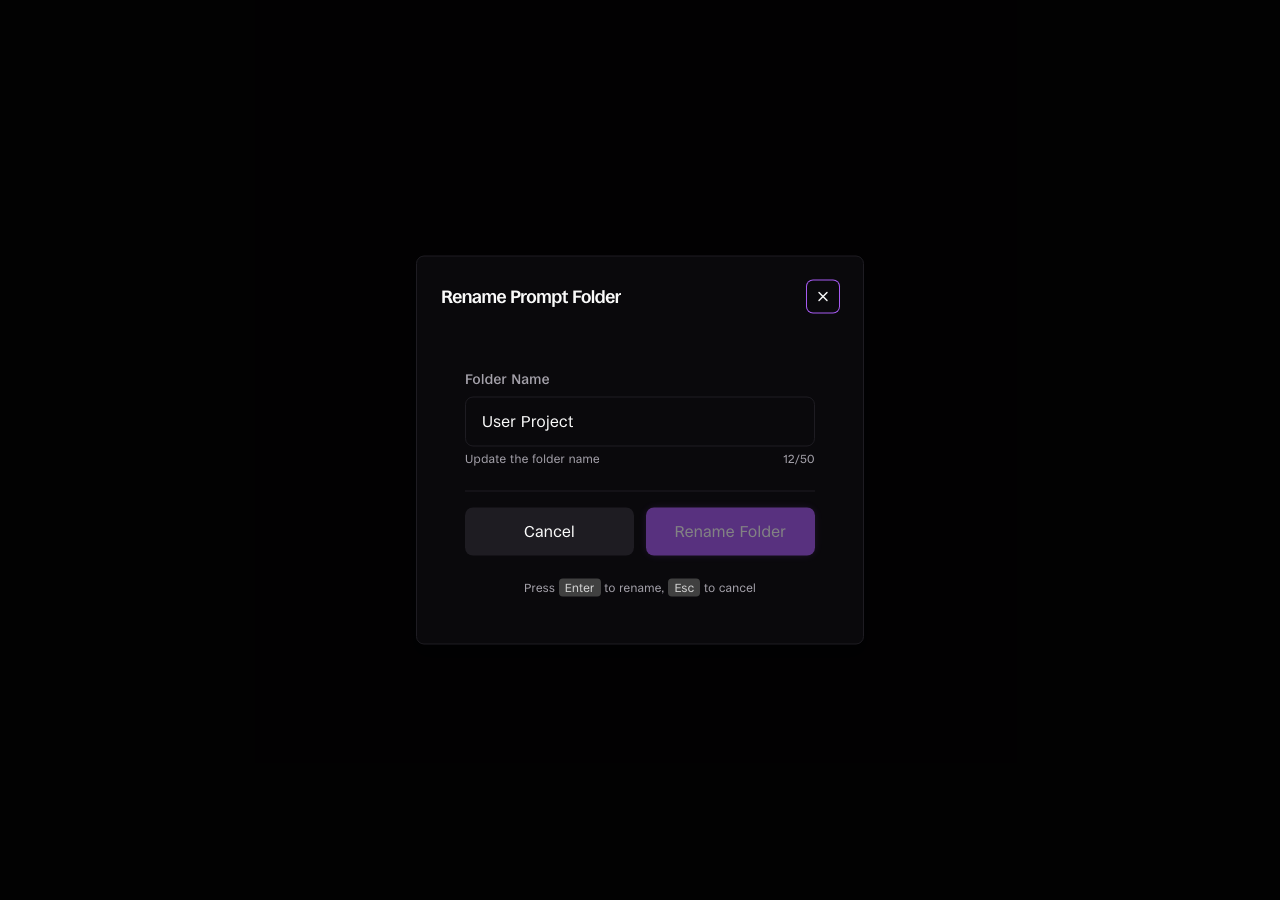
Test case: Folder Operations Error Handling › Permission Validation › should handle permission errors gracefully
This screenshot has width=1280, height=900.
Replace the text in the field labelled "Folder Name" with "New Name". click: {"x": 640, "y": 422}
box: [465,396,815,446]
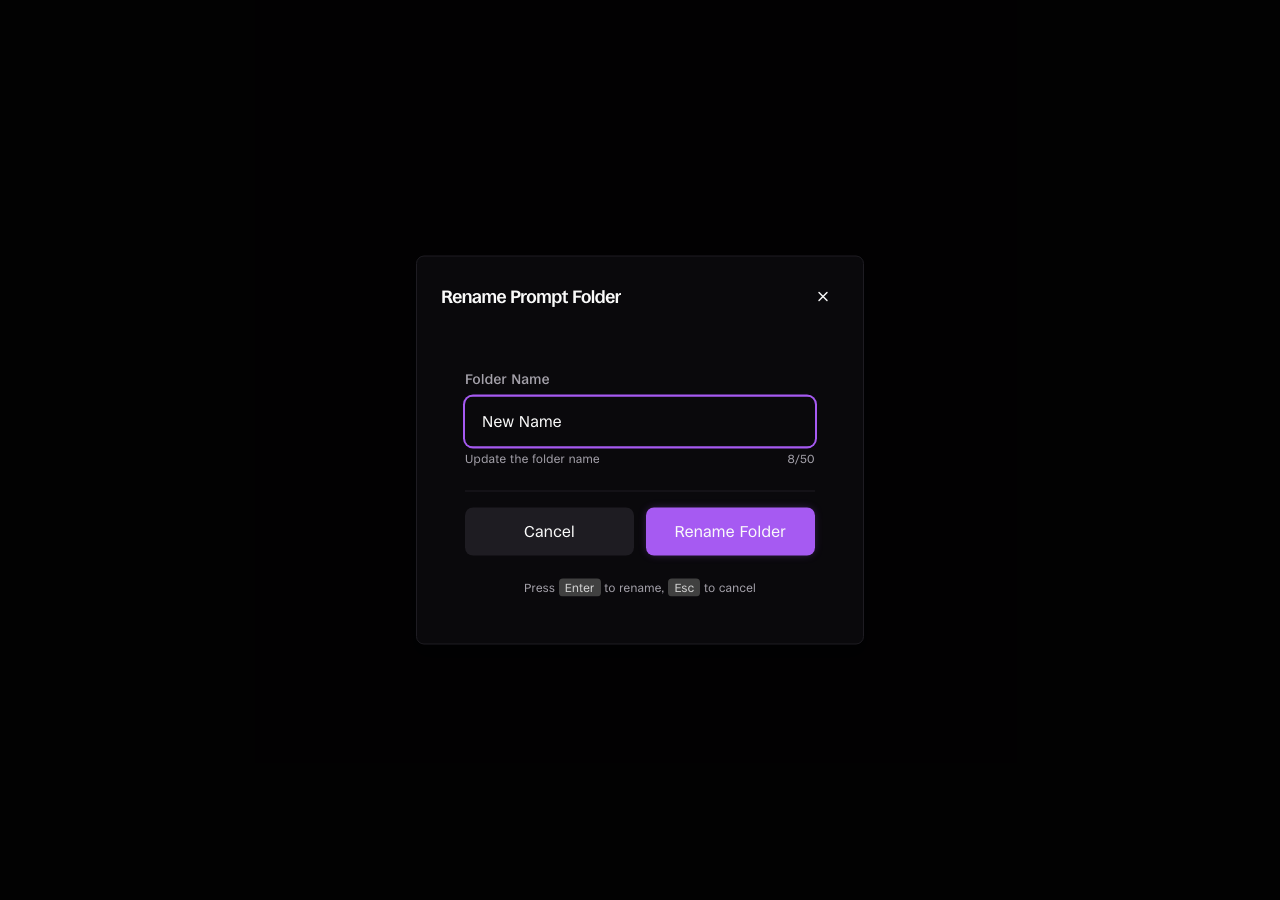
Click the button "Rename Folder". click: {"x": 730, "y": 532}
box: [646,508,815,556]
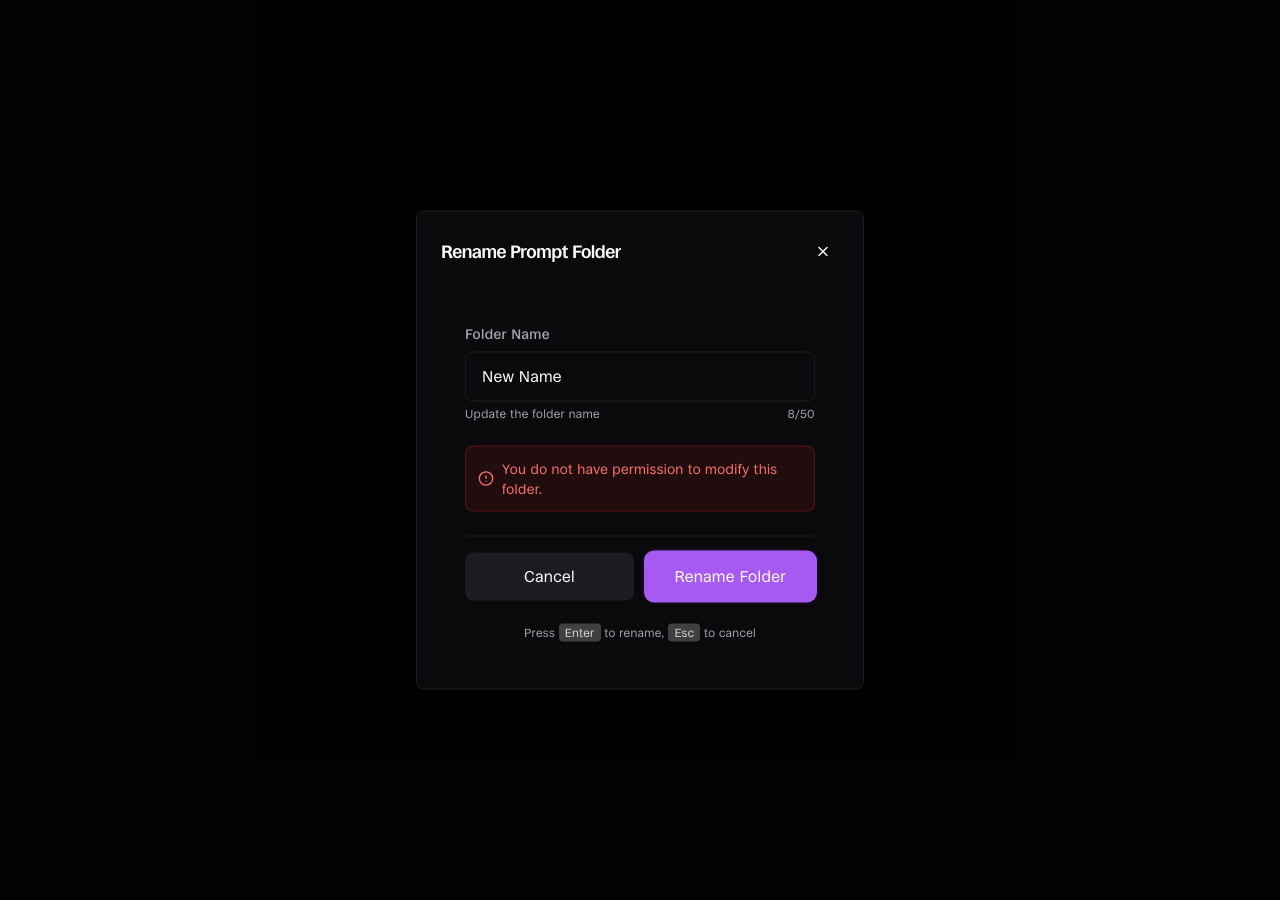
Check: the button "Cancel" is shown, box [465,552,634,600]
Check: the text "You do not have permission to modify this folder." is shown, box [502,458,802,498]
